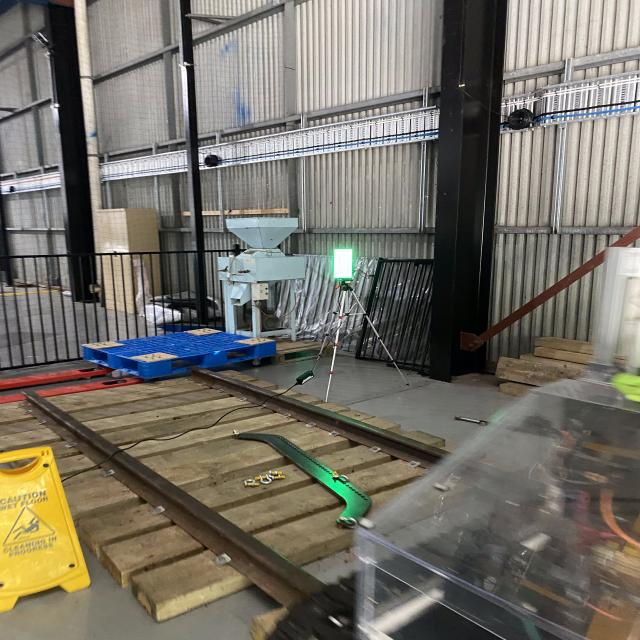matrix: (331, 247, 354, 279)
